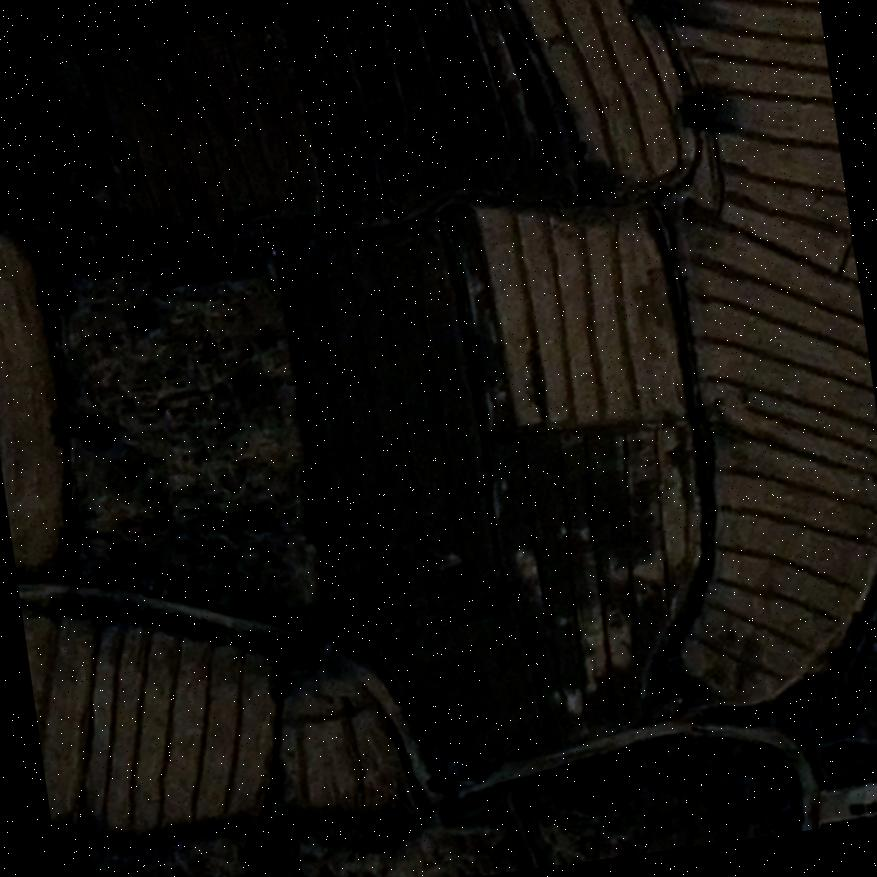Solarpanel: (845, 796, 877, 819)
